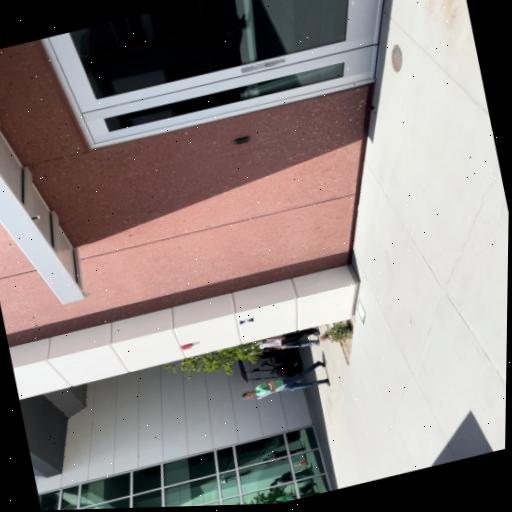target6: (239, 316, 254, 325)
